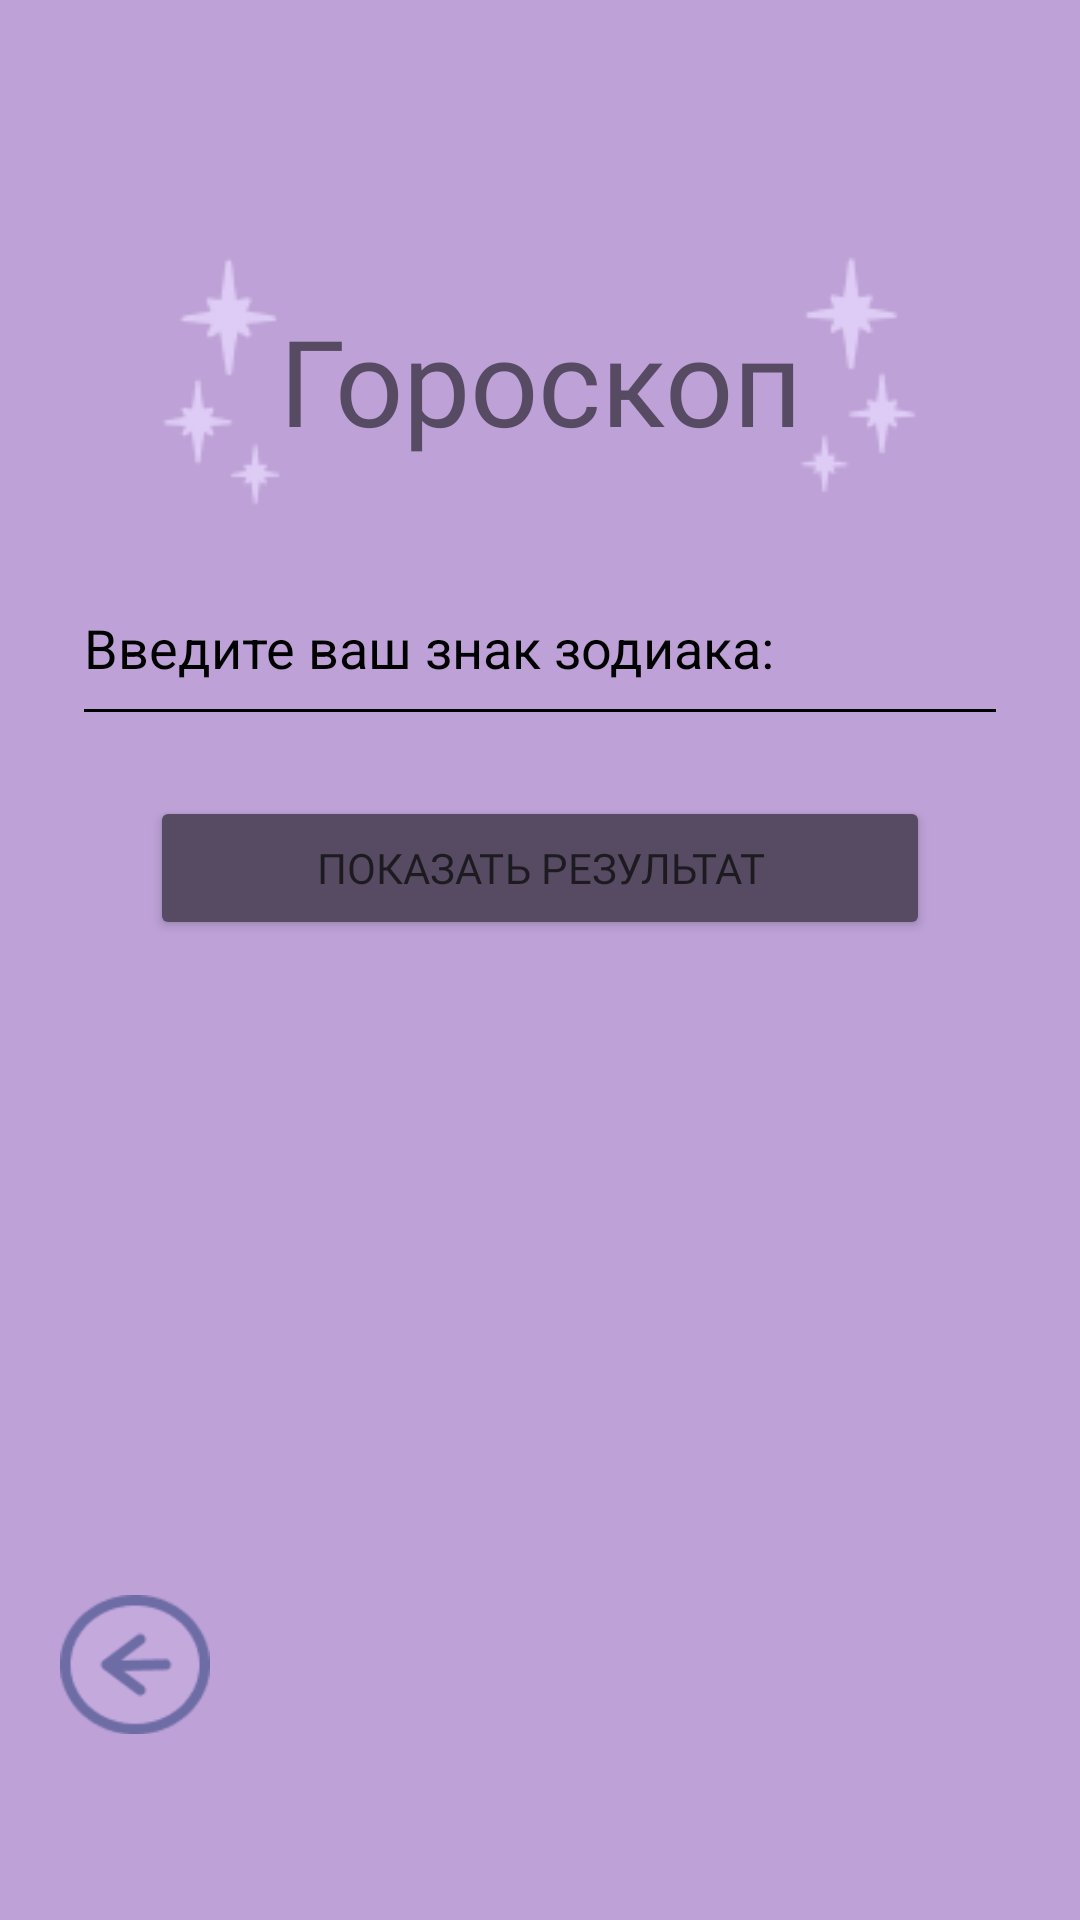

Screen size 1080 x 1920. Icon name, then its box in pixels as (x1, y1, x2, y2):
stars: (804, 259, 914, 491), (165, 261, 278, 502)
